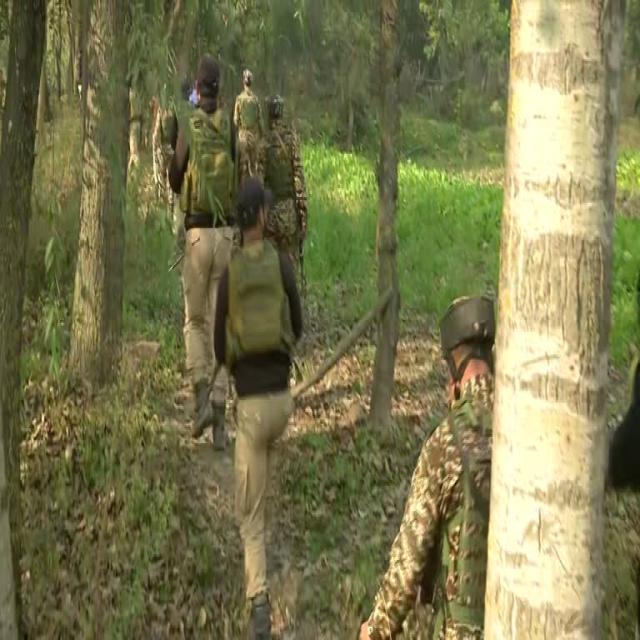Forest: (0, 0, 640, 640)
Militant: (374, 259, 538, 640), (198, 159, 302, 640), (159, 39, 245, 471), (229, 59, 319, 356)
